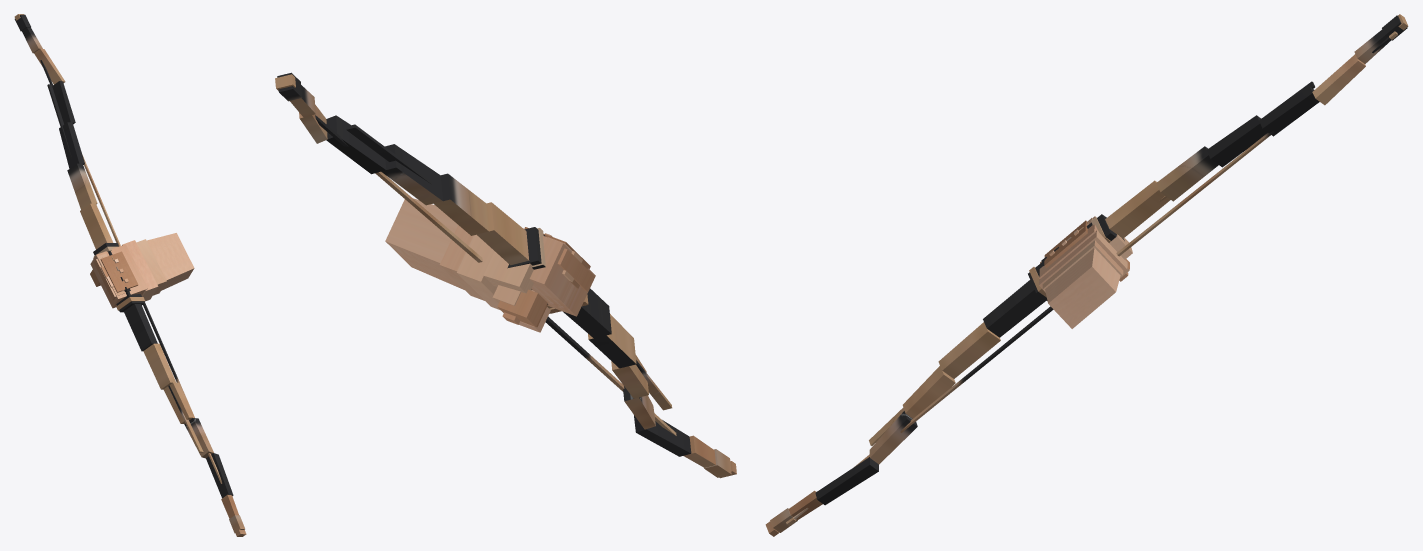
File: left_fist_bow.glb
3 views of the same model, side by side, from view 1: azimuth 30°, elevation 25°; view 2: azimuth 150°, elevation 25°; view 3: azimuth 270°, elevation 25° (orthographic). The views are drawn at different scales.
Parts seen in each view (by area): view 1: PS1_Bow, PS1_Fist; view 2: PS1_Bow, PS1_Fist; view 3: PS1_Bow, PS1_Fist.
Boxes of the visible parts, x1=… form: PS1_Bow: x1=14, y1=14, x2=246, y2=536; PS1_Fist: x1=90, y1=233, x2=194, y2=308; PS1_Bow: x1=275, y1=72, x2=736, y2=478; PS1_Fist: x1=385, y1=198, x2=595, y2=332; PS1_Bow: x1=765, y1=14, x2=1408, y2=536; PS1_Fist: x1=1039, y1=216, x2=1132, y2=328.
Size of the model in its own units: 0.1716 by 0.6998 by 0.7853.
2 materials, 2 textured.
